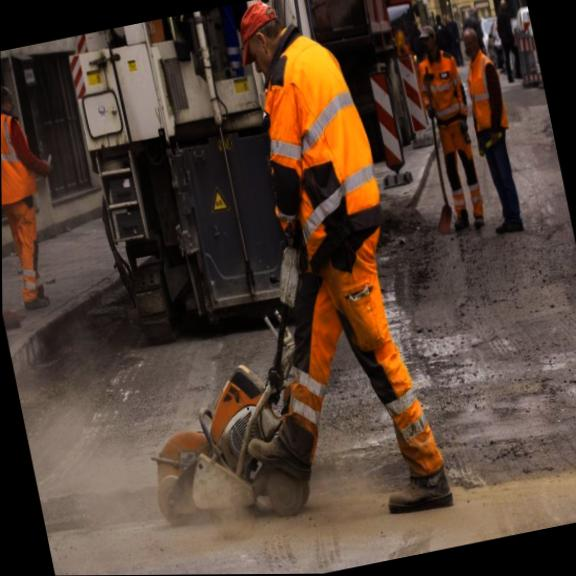safety_vest: (238, 53, 402, 279), (411, 53, 477, 145), (462, 49, 516, 150), (1, 112, 48, 217)
